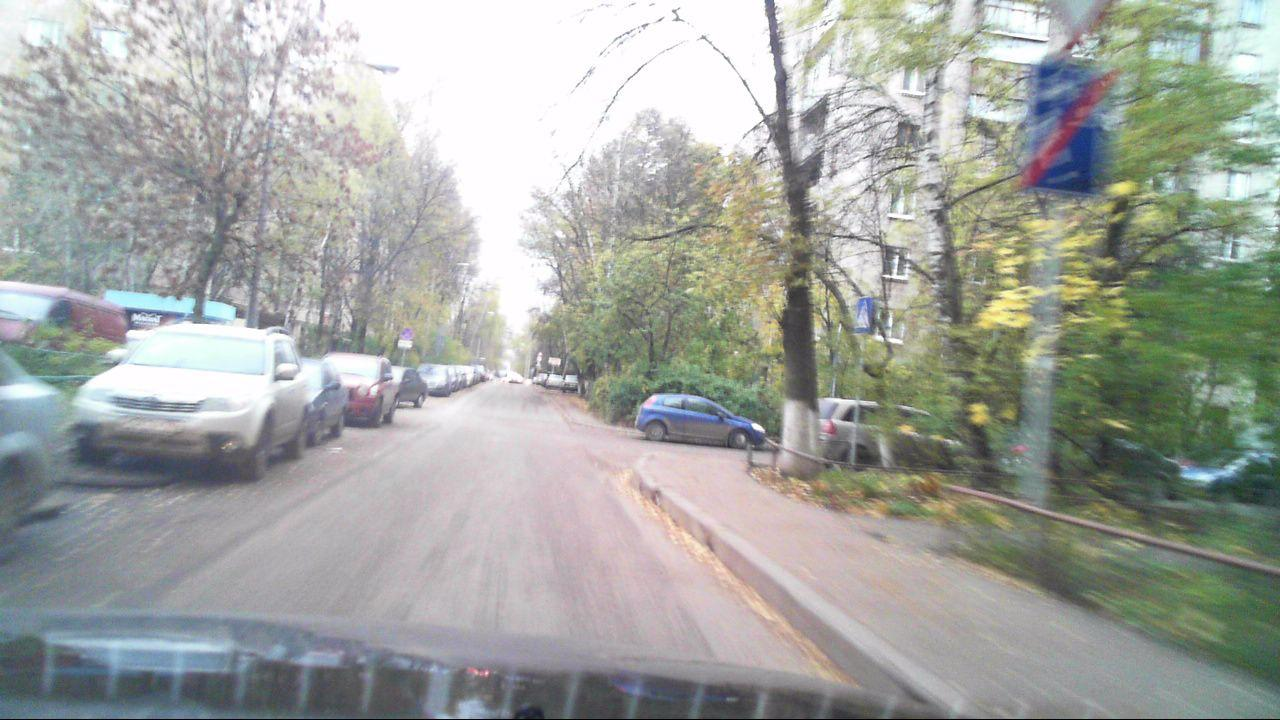2_4: (1033, 0, 1111, 41)
3_27: (400, 323, 413, 341)
5_19_1: (852, 294, 877, 331)
5_22: (1024, 59, 1105, 198)
